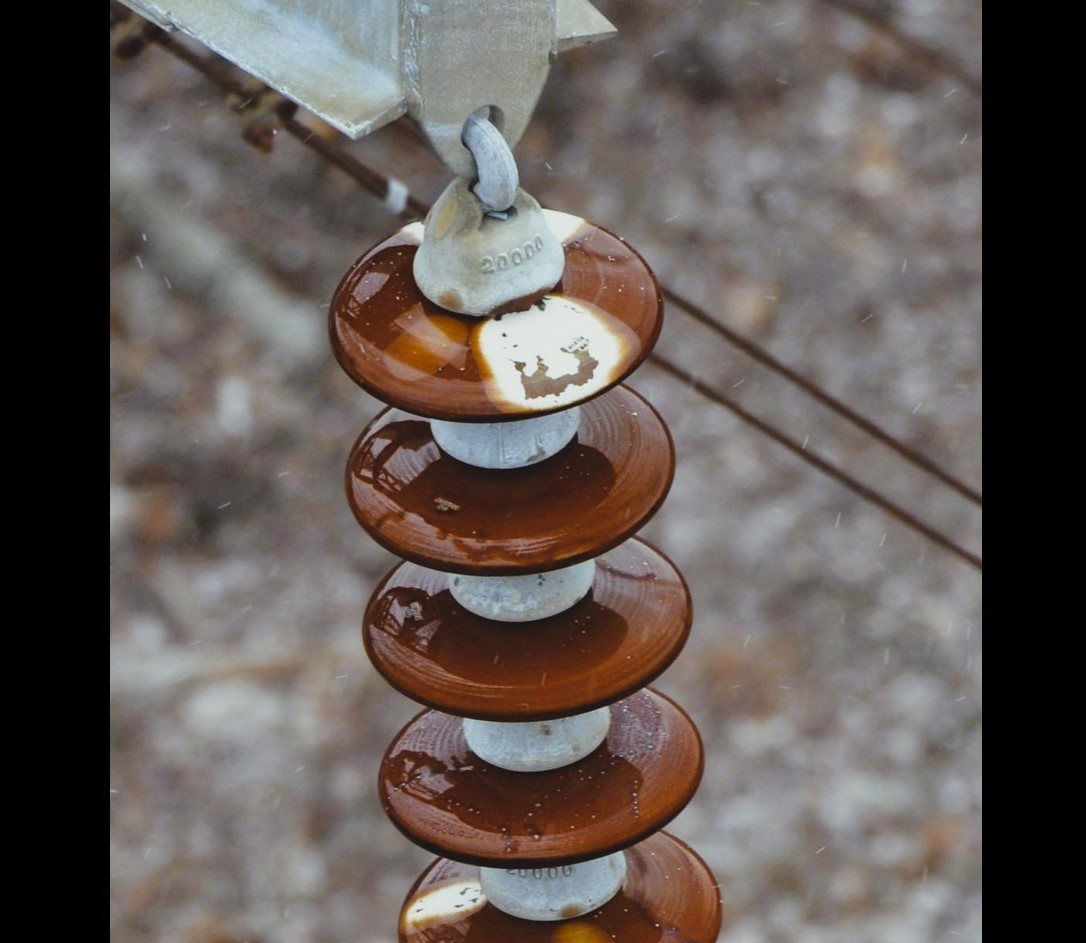Insulator flashover: (323, 193, 666, 431)
